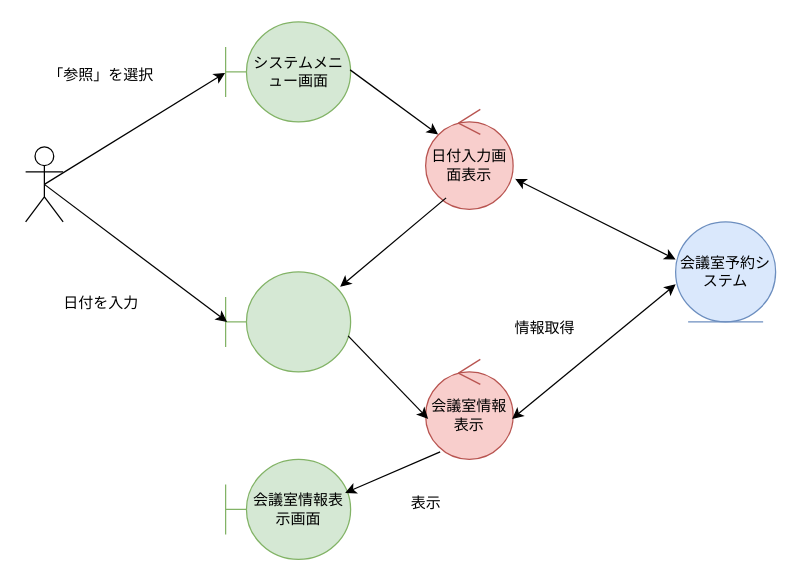
This 798x581 diagram has some shape labels left out. The shapes that lost their labels are listed below. From the top down, each one's box as (x1, y1, x2, y2) in pixels, then its label:
(24, 146, 63, 222): ユーザ
(224, 271, 351, 372): 日付入力画面
